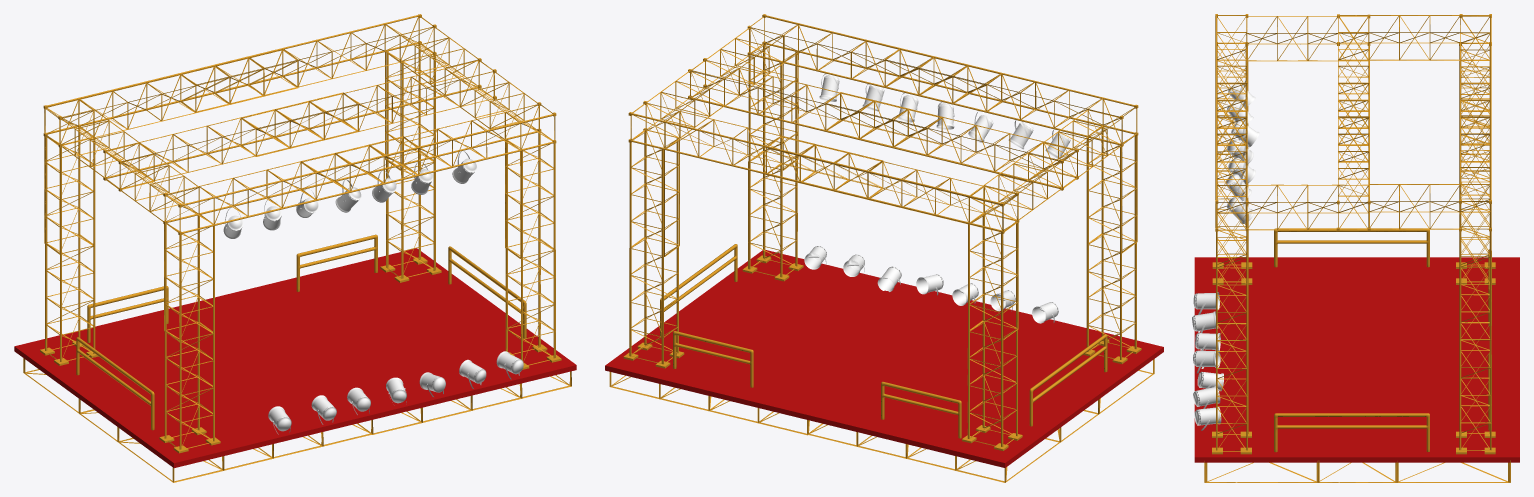
The model's file is stage001 (4).fbx.
3 renders of one model, left to right at view 1: azimuth 30°, elevation 25°; view 2: azimuth 150°, elevation 25°; view 3: azimuth 270°, elevation 25°, orthographic. The views are drawn at different scales.
Visible parts, largest first — view 1: floor, column, lamps.001, lamps; view 2: floor, column, lamps, lamps.001; view 3: floor, column, lamps.001, lamps.
Boxes of the visible parts, left/top/right/bottom form: floor: left=14, top=248, right=576, bottom=468; column: left=23, top=14, right=571, bottom=482; lamps.001: left=268, top=351, right=523, bottom=434; lamps: left=223, top=151, right=477, bottom=238; floor: left=605, top=250, right=1163, bottom=467; column: left=609, top=14, right=1154, bottom=482; lamps: left=819, top=73, right=1070, bottom=158; lamps.001: left=804, top=246, right=1058, bottom=323; floor: left=1194, top=257, right=1519, bottom=462; column: left=1204, top=14, right=1510, bottom=482; lamps.001: left=1192, top=292, right=1223, bottom=430; lamps: left=1225, top=77, right=1259, bottom=223.
Bounding box in the file's own units: 387 × 250 × 268.
